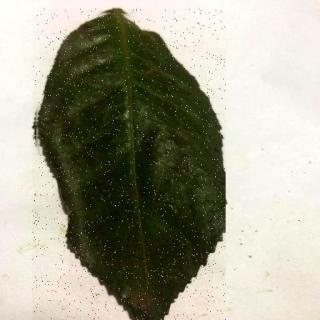Red Leaf Spot: (34, 10, 227, 320)
